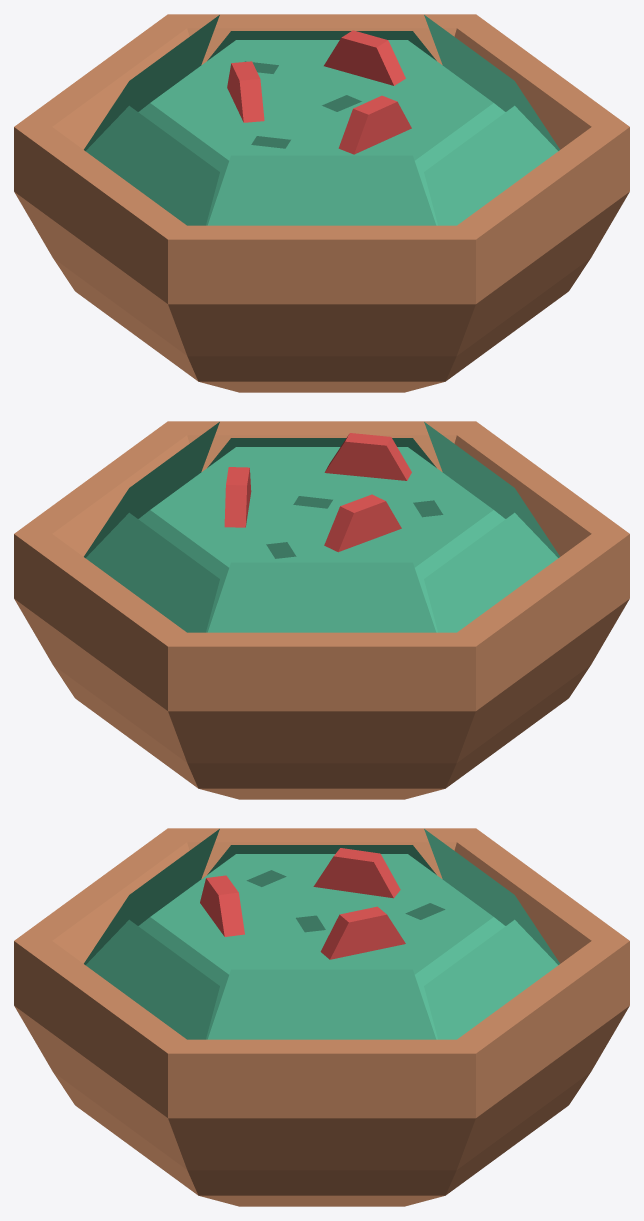
File: salad.fbx
3 renders of one model, top to bottom at view 1: azimuth 30°, elevation 25°; view 2: azimuth 150°, elevation 25°; view 3: azimuth 270°, elevation 25°, orthographic.
Parts seen in each view (by area): view 1: salad; view 2: salad; view 3: salad.
Boxes of the visible parts, x1,y1,x2,y2 form: salad: (14,14,629,392); salad: (14,421,629,799); salad: (14,828,629,1206).
Bounding box in the file's own units: 5.02 × 2.73 × 5.8.
